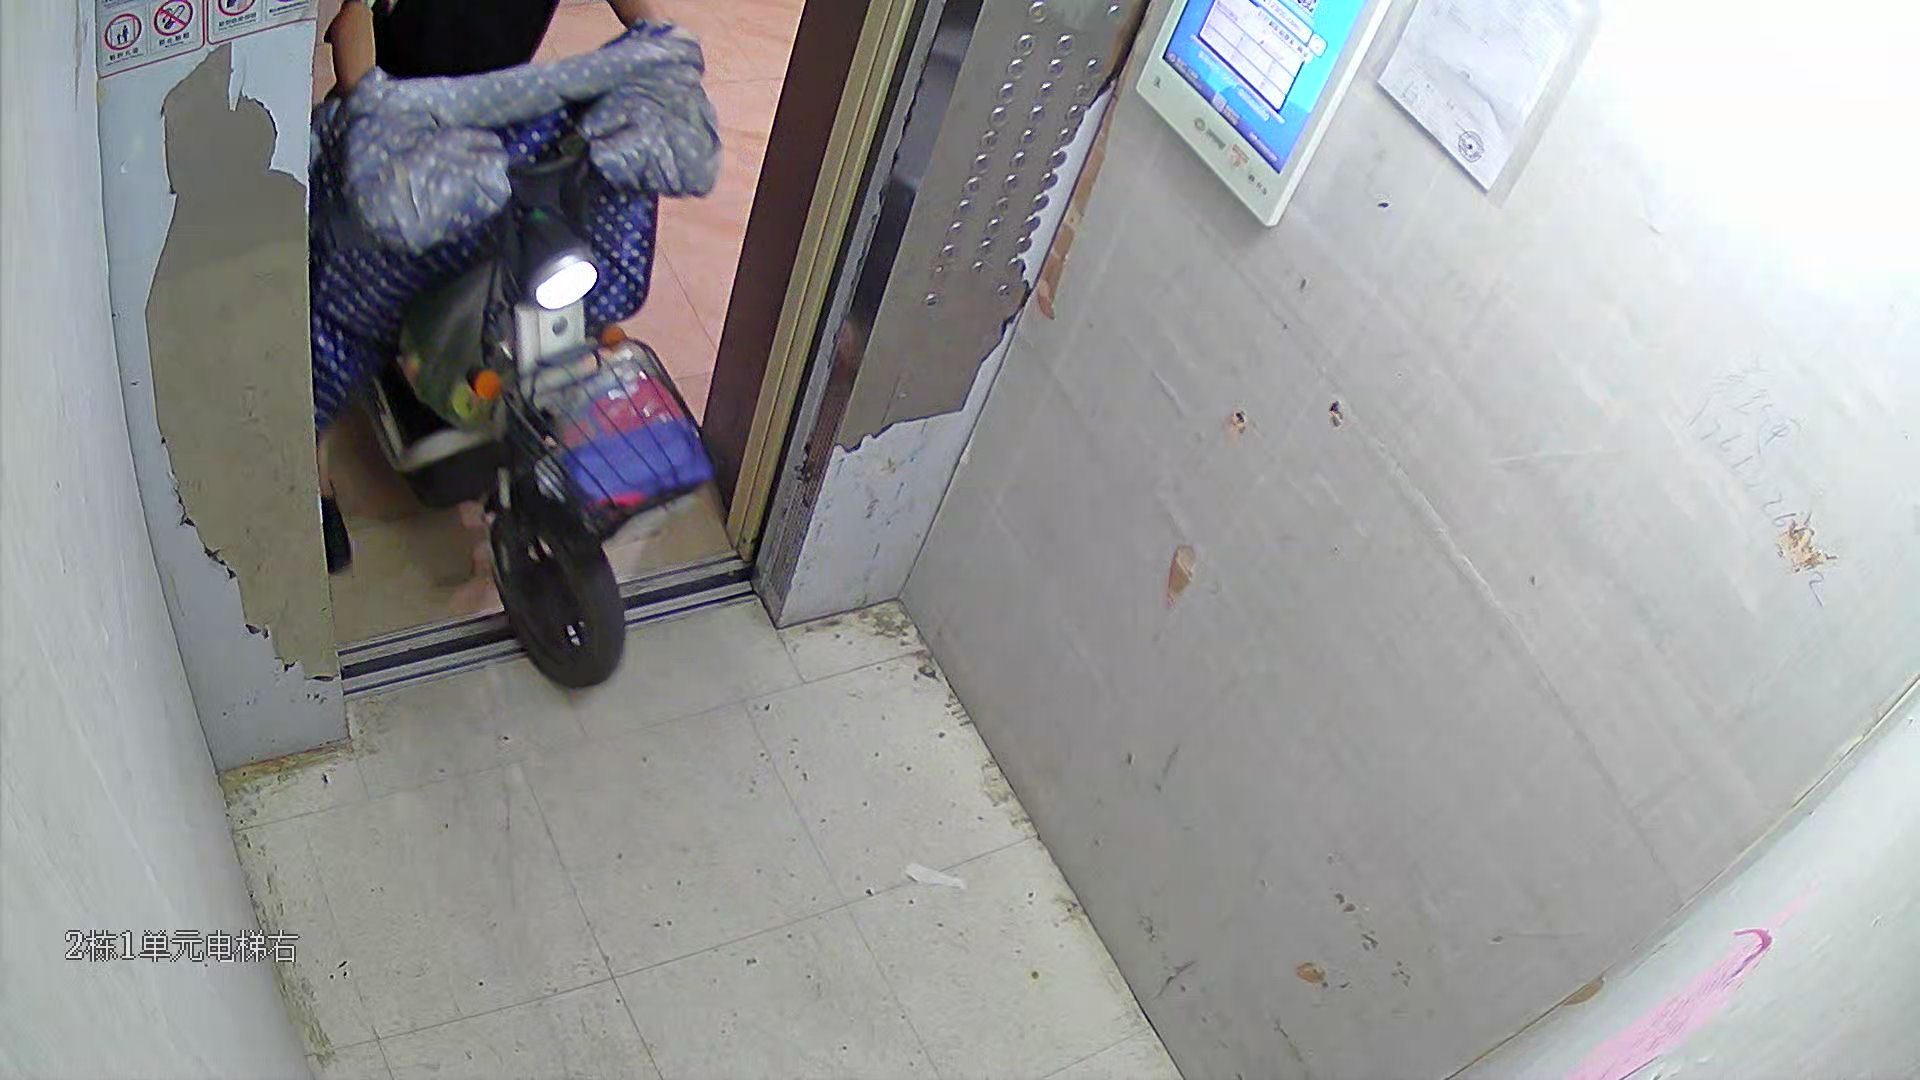Electric-bicycle: (323, 80, 716, 691)
